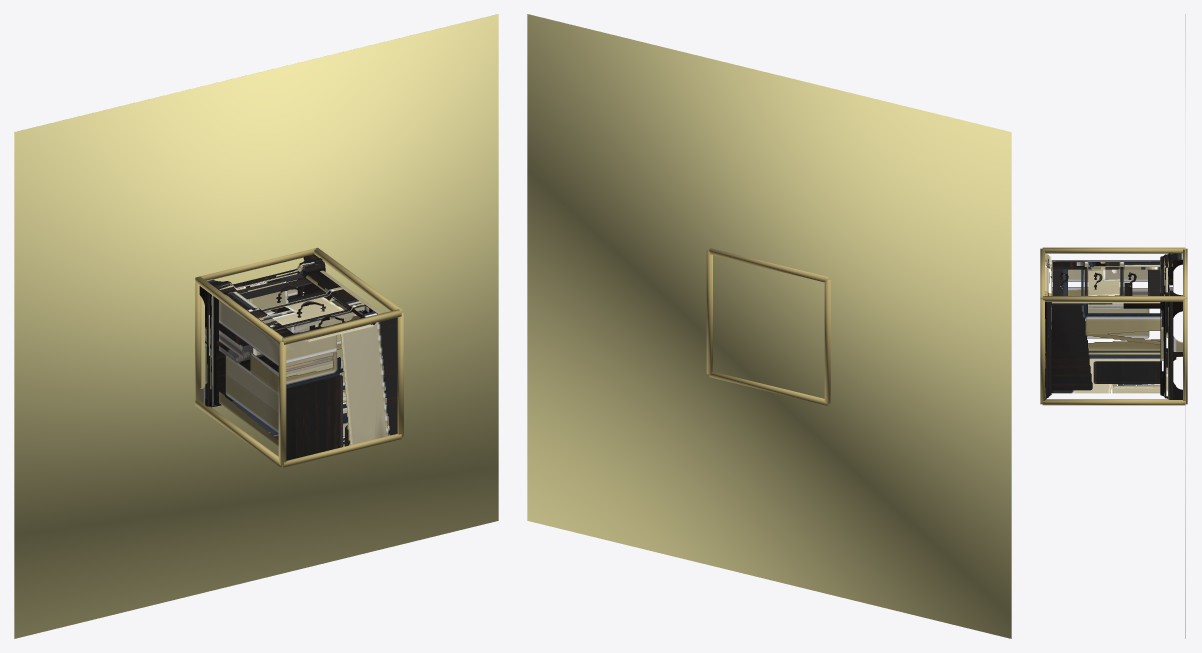
3 views of the same model, side by side, from view 1: azimuth 30°, elevation 25°; view 2: azimuth 150°, elevation 25°; view 3: azimuth 270°, elevation 25° (orthographic). The views are drawn at different scales.
Bounding box in the file's own units: 2 × 2 × 0.6272.
